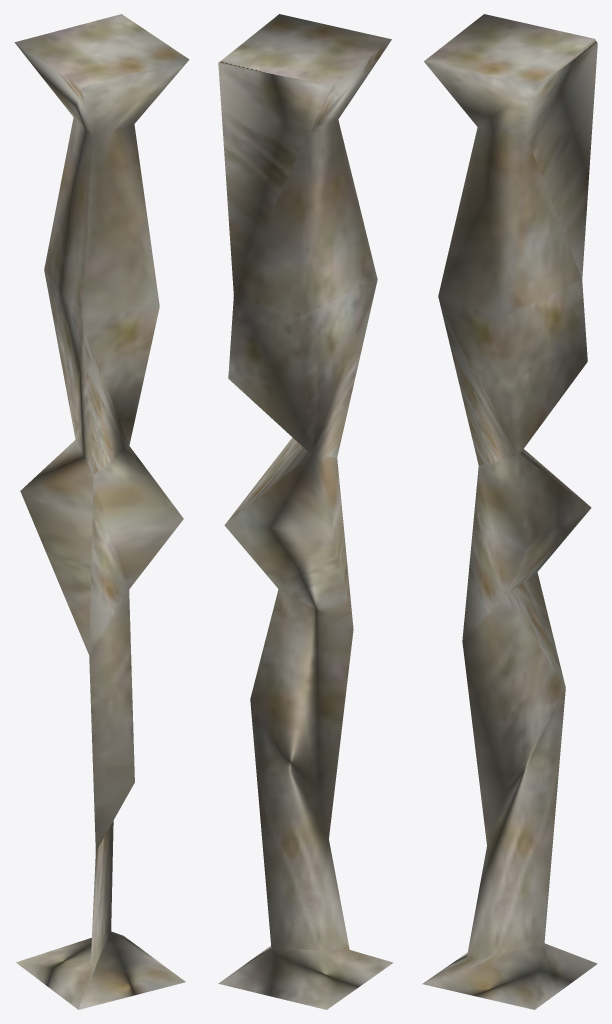
File: con-tien-da.glb
3 renders of one model, left to right at view 1: azimuth 30°, elevation 25°; view 2: azimuth 150°, elevation 25°; view 3: azimuth 330°, elevation 25°, orthographic.
Parts seen in each view (by area): view 1: Object_2; view 2: Object_2; view 3: Object_2.
Boxes of the visible parts, box(x1,y1,x2,y2) form: Object_2: box(14, 14, 189, 1009); Object_2: box(218, 14, 393, 1009); Object_2: box(422, 14, 597, 1009).
Bounding box in the file's own units: 0.1278 × 0.9907 × 0.1294.
Materials: 1 (1 with a texture image).
